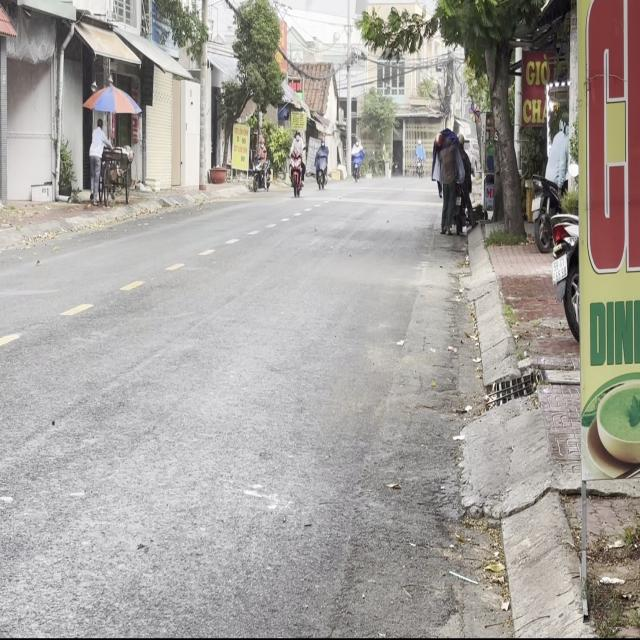nohelmet: (550, 254, 567, 280)
